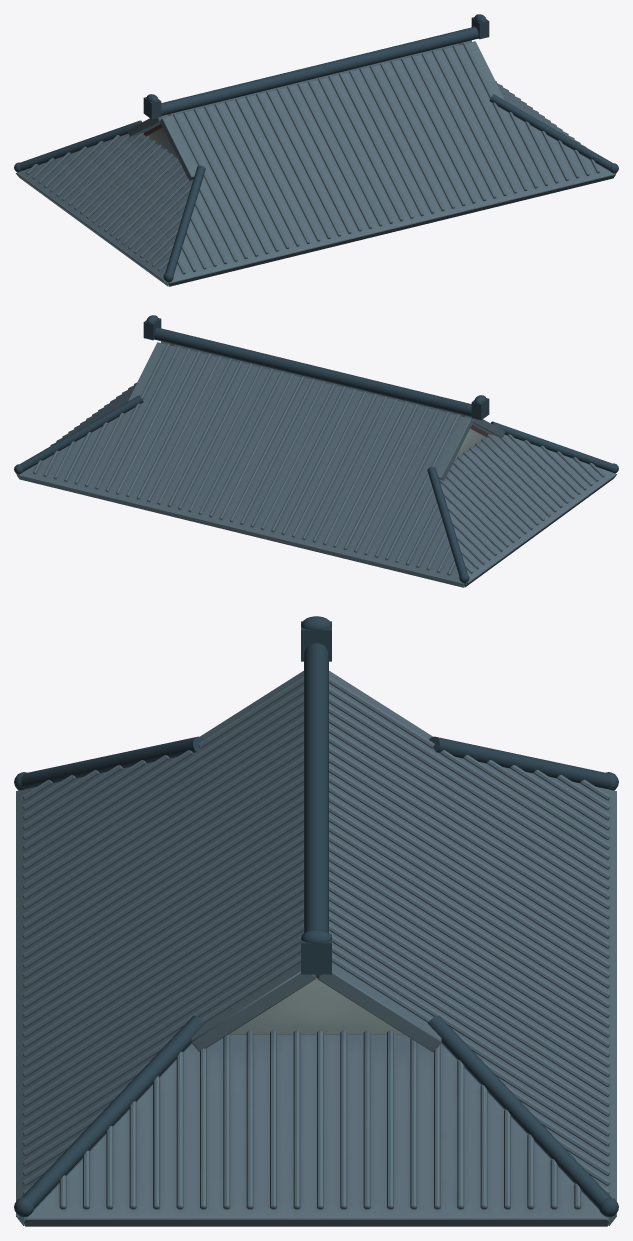
Rendered from gate_roof.glb.
3 views of the same model, one above another, from view 1: azimuth 30°, elevation 25°; view 2: azimuth 150°, elevation 25°; view 3: azimuth 270°, elevation 25° (orthographic). The views are drawn at different scales.
Visible parts, largest first — view 1: Eave, Ridges; view 2: Eave, Ridges; view 3: Eave, Ridges.
Boxes of the visible parts, bbox=[...] form: Eave: bbox=[16, 40, 616, 286]; Ridges: bbox=[14, 14, 618, 285]; Eave: bbox=[16, 341, 616, 587]; Ridges: bbox=[14, 315, 618, 586]; Eave: bbox=[16, 671, 616, 1226]; Ridges: bbox=[14, 616, 618, 1223].
Size of the model in its own units: 13.16 by 3.4 by 7.76.
4 materials, 1 textured.
